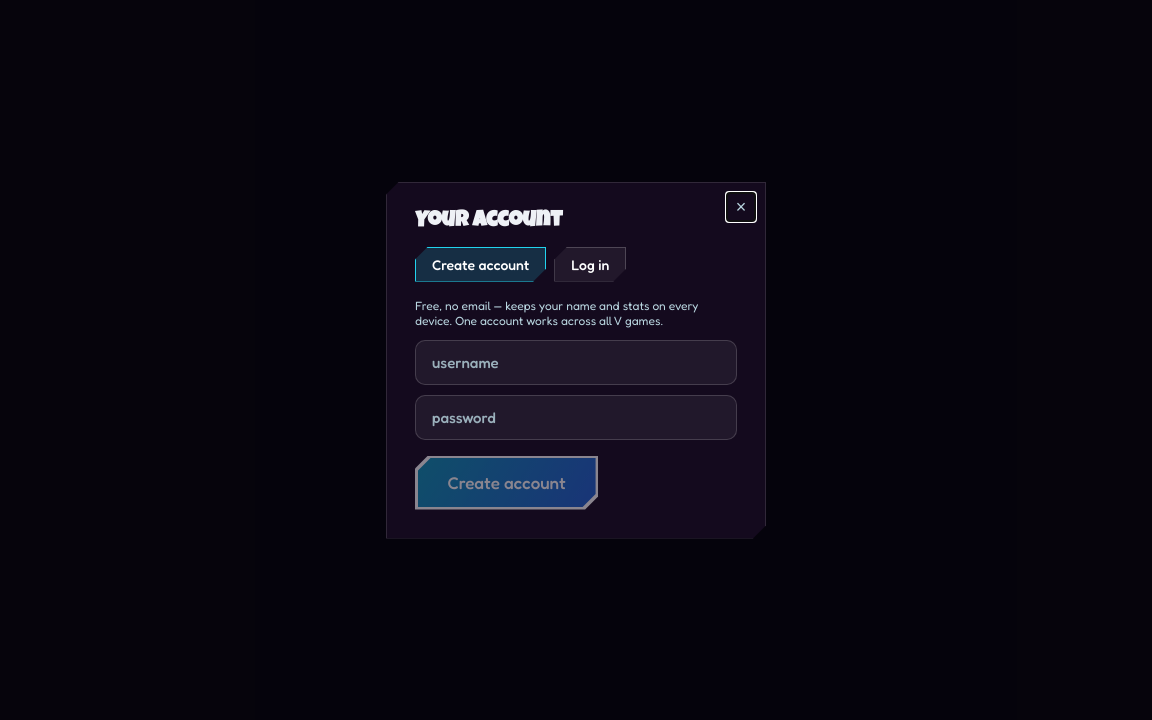
Test: a login error shows an inline message
Click the button "Log in": point(590, 264) [554, 246, 626, 282]
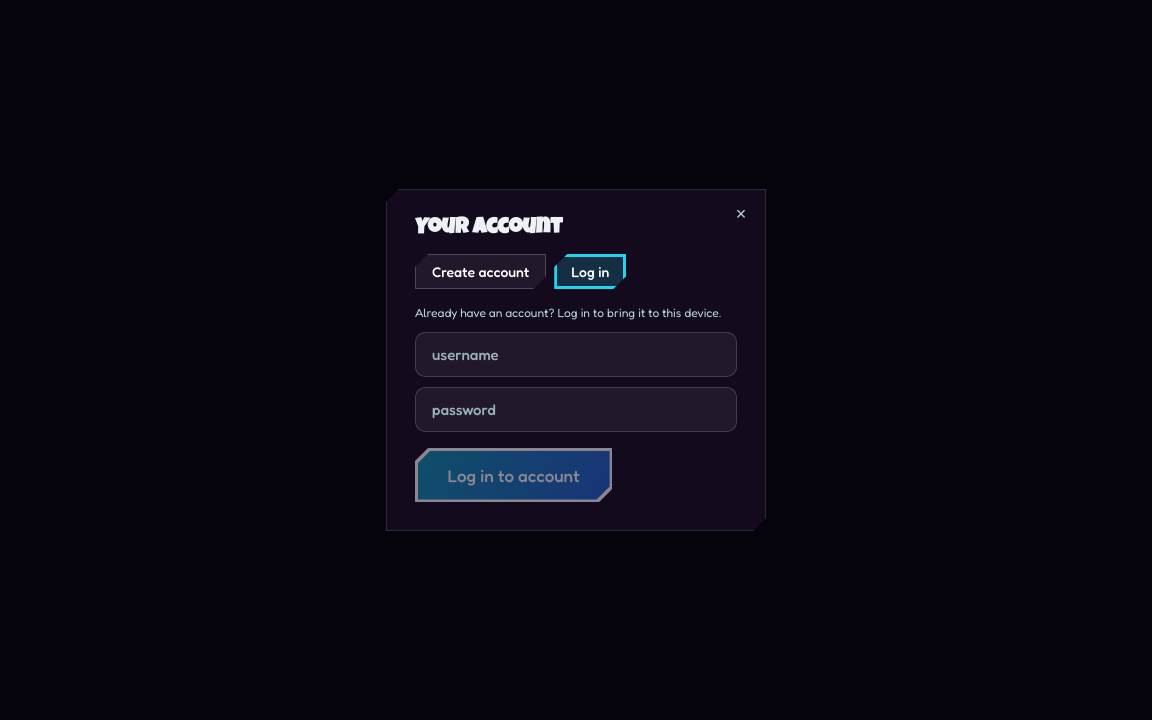
In the field labelled "username": point(576, 354) [415, 332, 737, 377], type "alex"
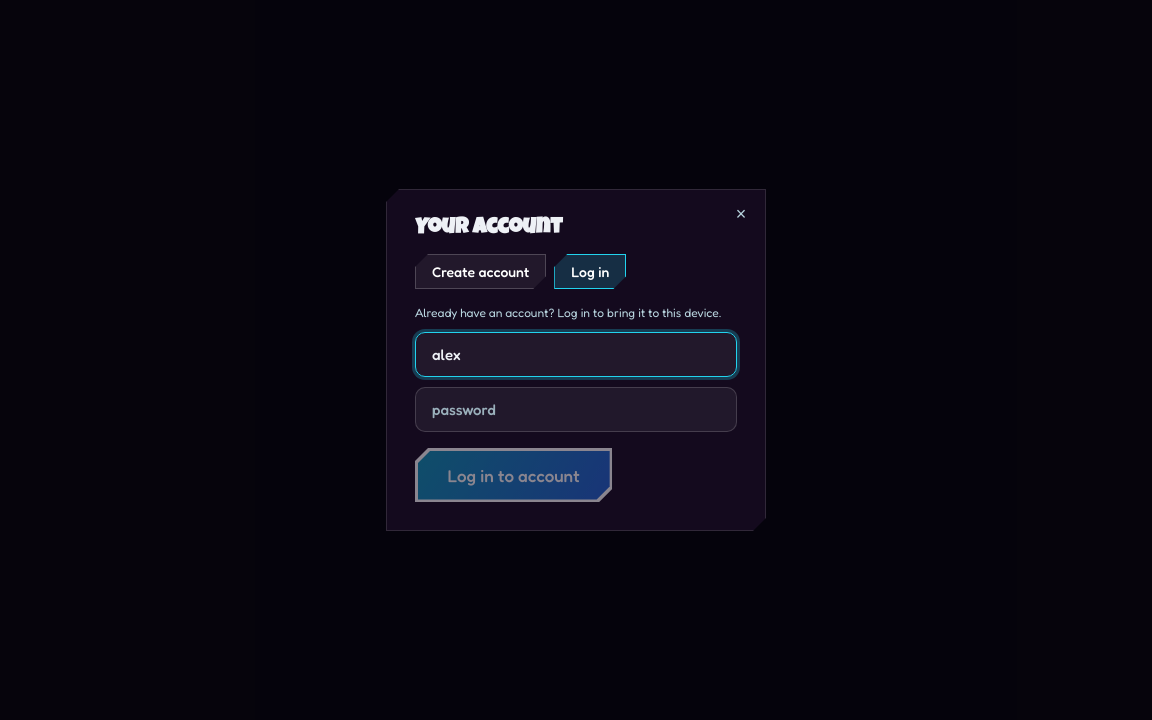
In the password field labelled "password": point(576, 410) [415, 387, 737, 432], type "wrongpass"
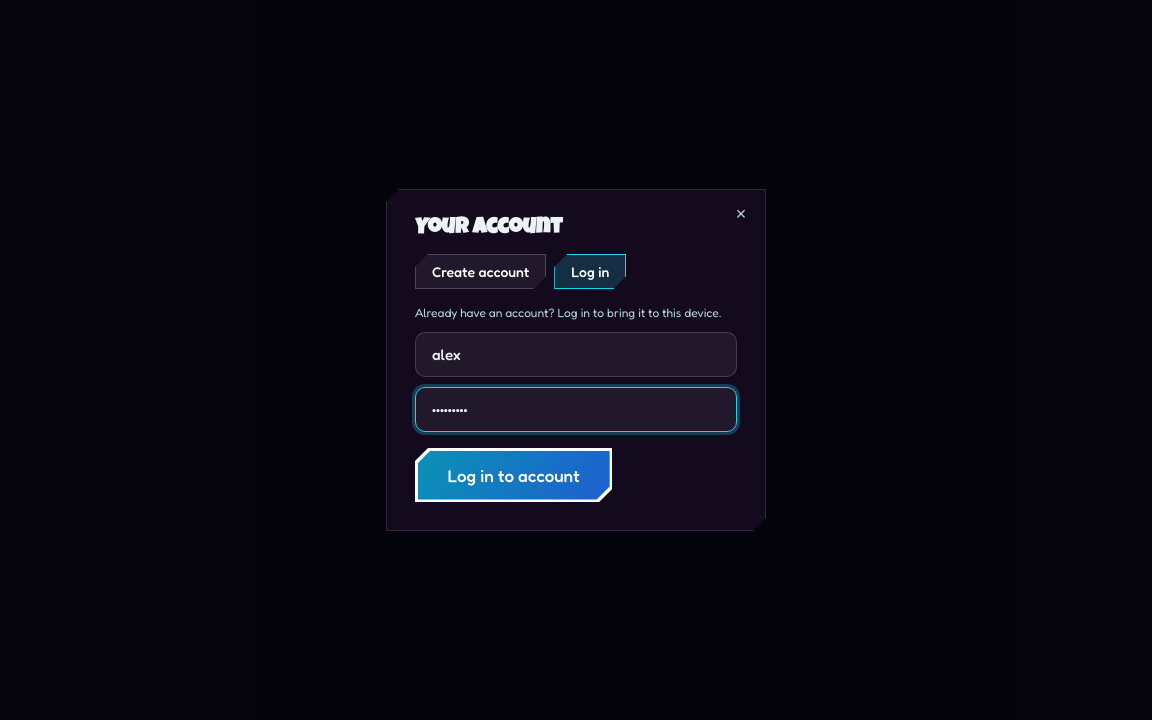
Click the button "Log in to account": point(514, 475) [415, 448, 612, 502]
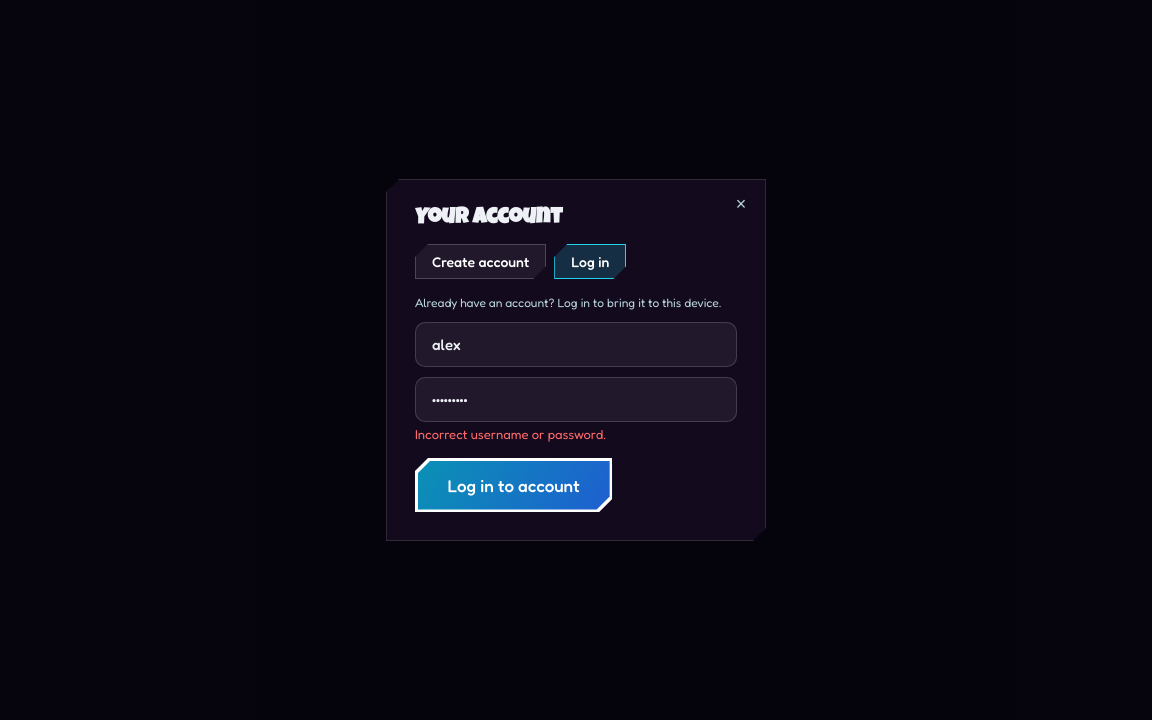
Check: the text "Incorrect username or password." is shown, box [415, 426, 606, 442]
